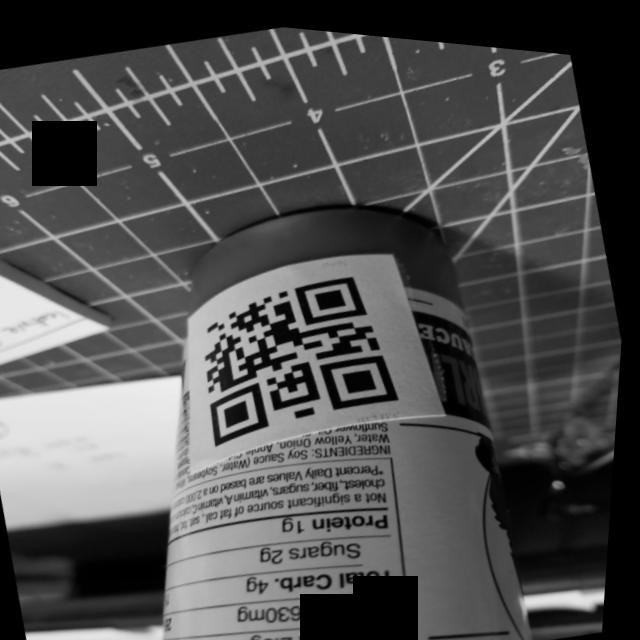QR_CODE: (179, 240, 435, 463)
